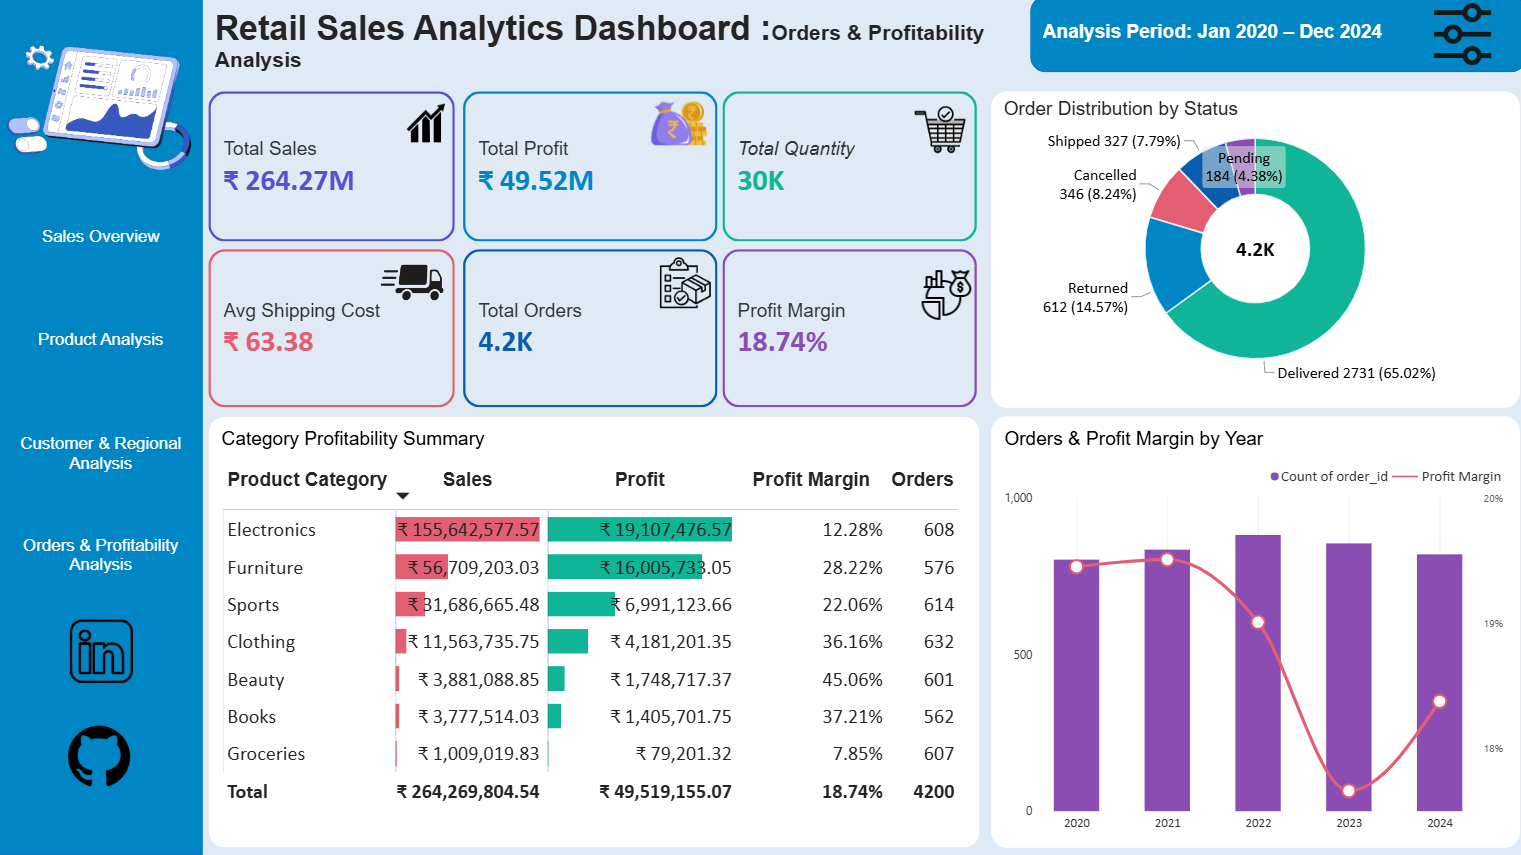

This screenshot's page, from the dashboard's own definition file:
{"tool":"powerbi","page":{"name":"Orders & Profitability Analysis","canvas":[1920,1080],"ordinal":3},"visuals":[{"type":"group","id":"g1","title":"Group 3","box":[264,120,970,398],"z":0,"group":"g4"},{"type":"group","id":"g2","title":"Group 1","box":[264,120,966.9,189.5],"z":0,"group":"g1"},{"type":"cardVisual","title":"Total Sales","fields":{"Data":["Sum(retail_sales_dataset.sales_amount)"]},"box":[264,120,310.2,189.5],"z":0,"group":"g2"},{"type":"cardVisual","title":"Total Sales","fields":{"Data":["Avg(retail_sales_dataset.shipping_cost)"]},"box":[264,319,310.2,199],"z":0,"group":"g3"},{"type":"lineClusteredColumnComboChart","title":"Orders & Profit Margin by Year","fields":{"Category":["retail_sales_dataset.order_date.Variation.Date Hierarchy.Year"],"Y":["Count(retail_sales_dataset.order_id)"],"Y2":["retail_sales_dataset.Profit Margin"]},"box":[1248,528,665,543],"z":0},{"type":"shape","box":[0,-8,256,1088],"z":1000},{"type":"cardVisual","title":"Total Sales","fields":{"Data":["Sum(retail_sales_dataset.quantity)"]},"box":[910.7,120,320.3,189.5],"z":1000,"group":"g2"},{"type":"group","id":"g3","title":"Group 1","box":[264,319,970,199],"z":1000,"group":"g1"},{"type":"cardVisual","title":"Total Sales","fields":{"Data":["retail_sales_dataset.Profit Margin"]},"box":[910.7,319,320.3,199],"z":1000,"group":"g3"},{"type":"cardVisual","title":"Total Sales","fields":{"Data":["Sum(retail_sales_dataset.profit)"]},"box":[583.9,120,320.3,189.5],"z":2000,"group":"g2"},{"type":"donutChart","fields":{"Category":["retail_sales_dataset.order_status"],"Y":["Count(retail_sales_dataset.order_id)"]},"box":[1248,120,665,398],"z":2000},{"type":"cardVisual","title":"Total Sales","fields":{"Data":["Count(retail_sales_dataset.order_id)"]},"box":[583.9,319,320.3,199],"z":2000,"group":"g3"},{"type":"actionButton","title":"Page 1","box":[0,400,256,64],"z":3000},{"type":"shape","box":[1296,0,624,96],"z":4000},{"type":"textbox","title":"Retail Sales Analytics Dashboard","box":[272,16,976,80],"z":5000},{"type":"image","box":[1760,0,160,96],"z":7000},{"type":"actionButton","title":"Page 1","box":[0,272,256,64],"z":8000},{"type":"textbox","box":[1312,32,432,64],"z":9000},{"type":"actionButton","title":"Page 1","box":[0,528,256,96],"z":10000},{"type":"actionButton","title":"Page 1","box":[0,656,256,96],"z":11000},{"type":"tableEx","title":"Category Profitability Summary","fields":{"Values":["retail_sales_dataset.product_category","Sum(retail_sales_dataset.sales_amount)","Sum(retail_sales_dataset.profit)","retail_sales_dataset.Profit Margin","retail_sales_dataset.order_id"]},"box":[264,528,970,543],"z":12000},{"type":"group","id":"g4","title":"Group 2","box":[264,120,970,398],"z":13000},{"type":"image","box":[512,128,48,64],"z":14000},{"type":"image","box":[816,112,80,96],"z":15000},{"type":"image","box":[832,320,64,80],"z":16000},{"type":"image","box":[1152,128,64,80],"z":17000},{"type":"textbox","box":[1264,128,368,48],"z":17500},{"type":"image","box":[1152,336,80,80],"z":18000},{"type":"image","box":[480,320,80,80],"z":19000},{"type":"image","box":[64,784,128,80],"z":21000},{"type":"image","box":[64,912,128,96],"z":22000},{"type":"image","box":[0,0,256,272],"z":23000}]}

Visuals, with their boxes in screenshot pixels (x1, y1, x2, y2), scaled from the page's 1920x1080 canvas onto the 1521x855 screenshot:
"Group 3" group: (x1=209, y1=95, x2=978, y2=410)
"Group 1" group: (x1=209, y1=95, x2=975, y2=245)
"Total Sales" cardVisual: (x1=209, y1=95, x2=455, y2=245)
"Total Sales" cardVisual: (x1=209, y1=253, x2=455, y2=410)
"Orders & Profit Margin by Year" lineClusteredColumnComboChart: (x1=989, y1=418, x2=1515, y2=848)
shape: (x1=0, y1=0, x2=203, y2=854)
"Total Sales" cardVisual: (x1=721, y1=95, x2=975, y2=245)
"Group 1" group: (x1=209, y1=253, x2=978, y2=410)
"Total Sales" cardVisual: (x1=721, y1=253, x2=975, y2=410)
"Total Sales" cardVisual: (x1=463, y1=95, x2=716, y2=245)
donutChart - retail_sales_dataset.order_status x Count(retail_sales_dataset.order_id): (x1=989, y1=95, x2=1515, y2=410)
"Total Sales" cardVisual: (x1=463, y1=253, x2=716, y2=410)
"Page 1" actionButton: (x1=0, y1=317, x2=203, y2=367)
shape: (x1=1027, y1=0, x2=1520, y2=76)
"Retail Sales Analytics Dashboard" textbox: (x1=215, y1=13, x2=989, y2=76)
image: (x1=1394, y1=0, x2=1520, y2=76)
"Page 1" actionButton: (x1=0, y1=215, x2=203, y2=266)
textbox: (x1=1039, y1=25, x2=1382, y2=76)
"Page 1" actionButton: (x1=0, y1=418, x2=203, y2=494)
"Page 1" actionButton: (x1=0, y1=519, x2=203, y2=595)
"Category Profitability Summary" tableEx: (x1=209, y1=418, x2=978, y2=848)
"Group 2" group: (x1=209, y1=95, x2=978, y2=410)
image: (x1=406, y1=101, x2=444, y2=152)
image: (x1=646, y1=89, x2=710, y2=165)
image: (x1=659, y1=253, x2=710, y2=317)
image: (x1=913, y1=101, x2=963, y2=165)
textbox: (x1=1001, y1=101, x2=1293, y2=139)
image: (x1=913, y1=266, x2=976, y2=329)
image: (x1=380, y1=253, x2=444, y2=317)
image: (x1=51, y1=621, x2=152, y2=684)
image: (x1=51, y1=722, x2=152, y2=798)
image: (x1=0, y1=0, x2=203, y2=215)
